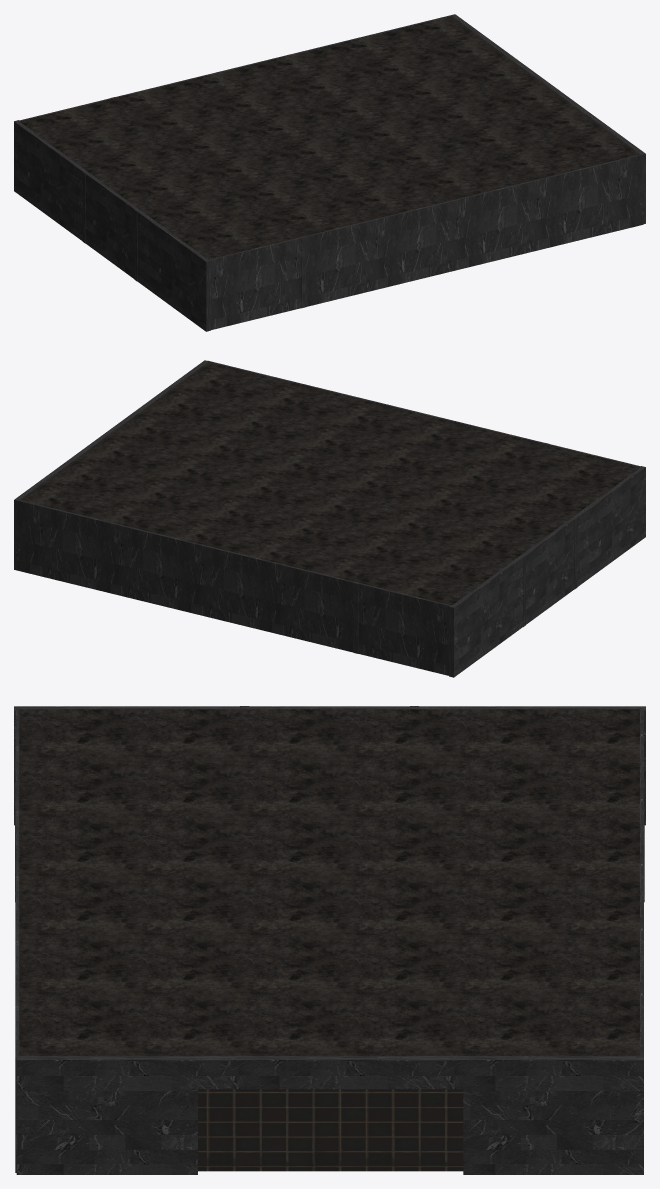
File: office room 1 (black) .glb
The picture shows the model from 3 angles, top to bottom: view 1: azimuth 30°, elevation 25°; view 2: azimuth 150°, elevation 25°; view 3: azimuth 270°, elevation 25°; orthographic projection. The views are drawn at different scales.
Parts seen in each view (by area): view 1: Plane.001, Cube.008, Cube.009; view 2: Plane.001, Cube.008, Cube.009; view 3: Plane.001, Cube.009, Plane, Cube.008.
Part boxes in pixels (box(x1,y1,x2,y2)): Plane.001: box(20, 16, 639, 259); Cube.008: box(17, 15, 643, 329); Cube.009: box(14, 14, 645, 331); Plane.001: box(20, 362, 640, 605); Cube.008: box(16, 360, 642, 675); Cube.009: box(14, 360, 645, 677); Plane.001: box(19, 709, 639, 1055); Cube.009: box(14, 706, 645, 1174); Plane: box(198, 1089, 463, 1171); Cube.008: box(15, 706, 643, 1172).
Bounding box in the file's own units: 21.28 × 3.23 × 16.06.
18 materials, 4 textured.
